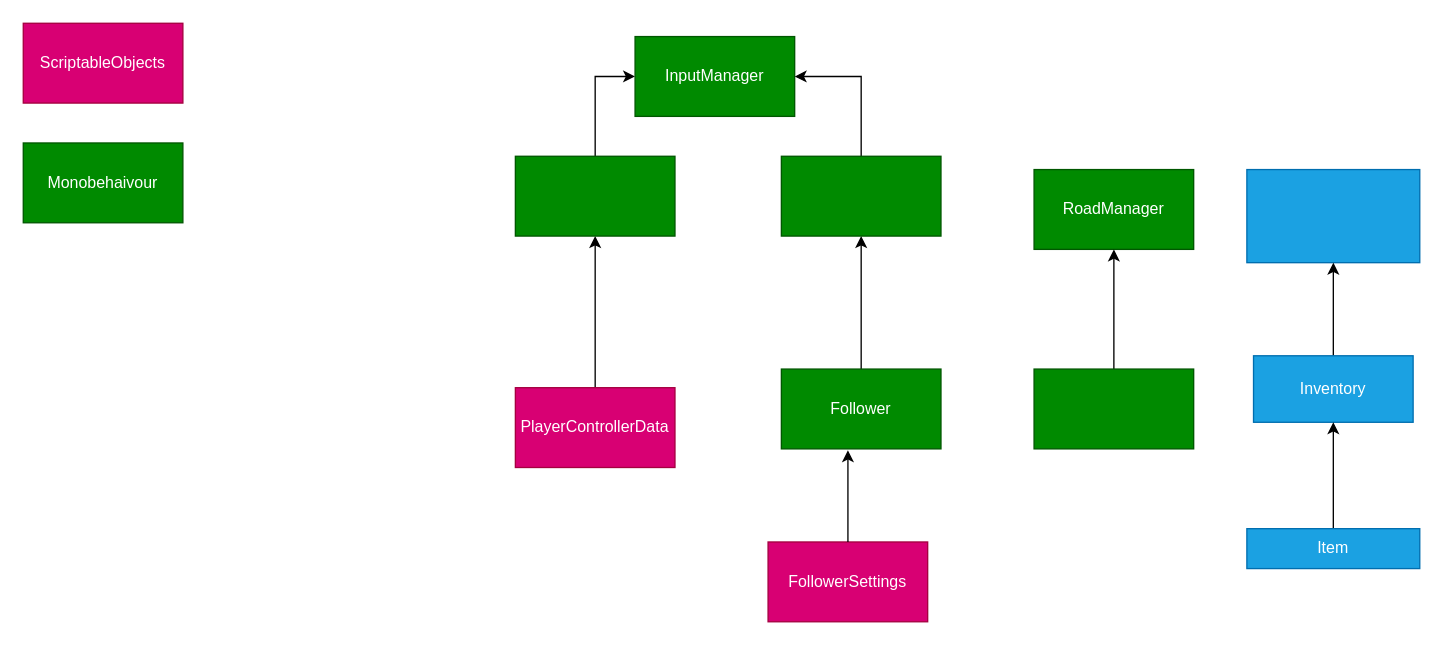
Some shapes in this 1443 by 645 pixel diagram are drawn without their labels. The centre of each missing label's shape, as x and y in pixels:
"CollectManager" belongs at [860,195].
"PlayerController" belongs at [594,195].
"Road" belongs at [1113,408].
"SaveSystem.cs" belongs at [1333,215].
